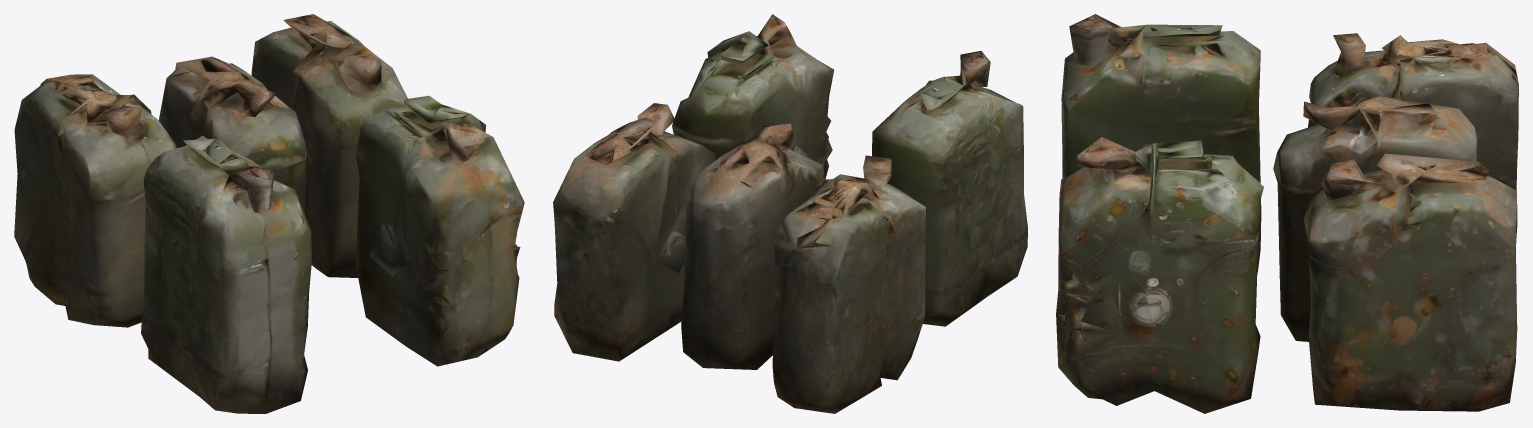
Rendered from cv_jerrycans.glb.
The picture shows the model from 3 angles, left to right: view 1: azimuth 30°, elevation 25°; view 2: azimuth 150°, elevation 25°; view 3: azimuth 270°, elevation 25°; orthographic projection. The views are drawn at different scales.
Visible parts, largest first — view 1: tripo_node_af8ab037-58e0-4b43-ba19-32103606bbe6; view 2: tripo_node_af8ab037-58e0-4b43-ba19-32103606bbe6; view 3: tripo_node_af8ab037-58e0-4b43-ba19-32103606bbe6.
Part boxes in pixels (box(x1,y1,x2,y2)): tripo_node_af8ab037-58e0-4b43-ba19-32103606bbe6: box(14, 14, 524, 413); tripo_node_af8ab037-58e0-4b43-ba19-32103606bbe6: box(553, 14, 1027, 413); tripo_node_af8ab037-58e0-4b43-ba19-32103606bbe6: box(1056, 14, 1518, 413).
Size of the model in its own units: 0.8788 by 0.6204 by 1.
1 material, 1 textured.
